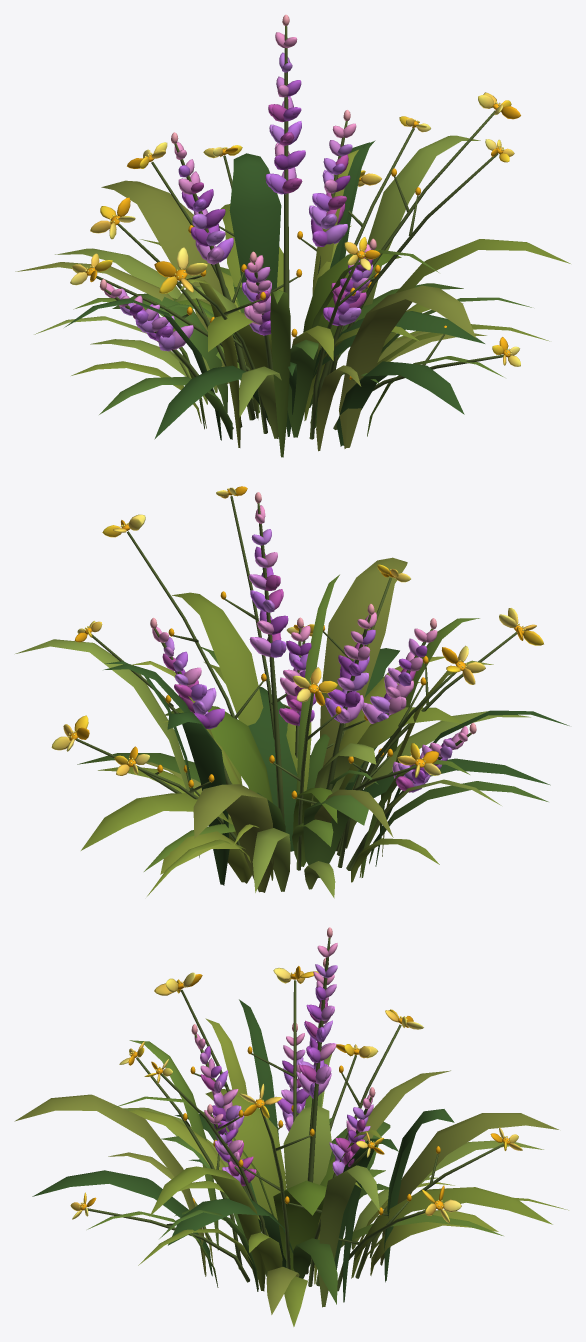
Rendered from wsc-prop-047-wildflower-clump.glb.
3 renders of one model, top to bottom at view 1: azimuth 30°, elevation 25°; view 2: azimuth 150°, elevation 25°; view 3: azimuth 270°, elevation 25°, orthographic. The views are drawn at different scales.
Visible parts, largest first — view 1: 01 Meadow blades and stalks, 02 Lupine and buttercup petals; view 2: 01 Meadow blades and stalks, 02 Lupine and buttercup petals; view 3: 01 Meadow blades and stalks, 02 Lupine and buttercup petals.
Part boxes in pixels (left/top/right/bottom): 01 Meadow blades and stalks: left=15, top=26, right=570, bottom=457; 02 Lupine and buttercup petals: left=70, top=14, right=520, bottom=379; 01 Meadow blades and stalks: left=15, top=496, right=569, bottom=898; 02 Lupine and buttercup petals: left=51, top=486, right=543, bottom=798; 01 Meadow blades and stalks: left=14, top=938, right=568, bottom=1326; 02 Lupine and buttercup petals: left=70, top=927, right=522, bottom=1223.
Size of the model in its own units: 1.04 by 0.7742 by 1.11.
